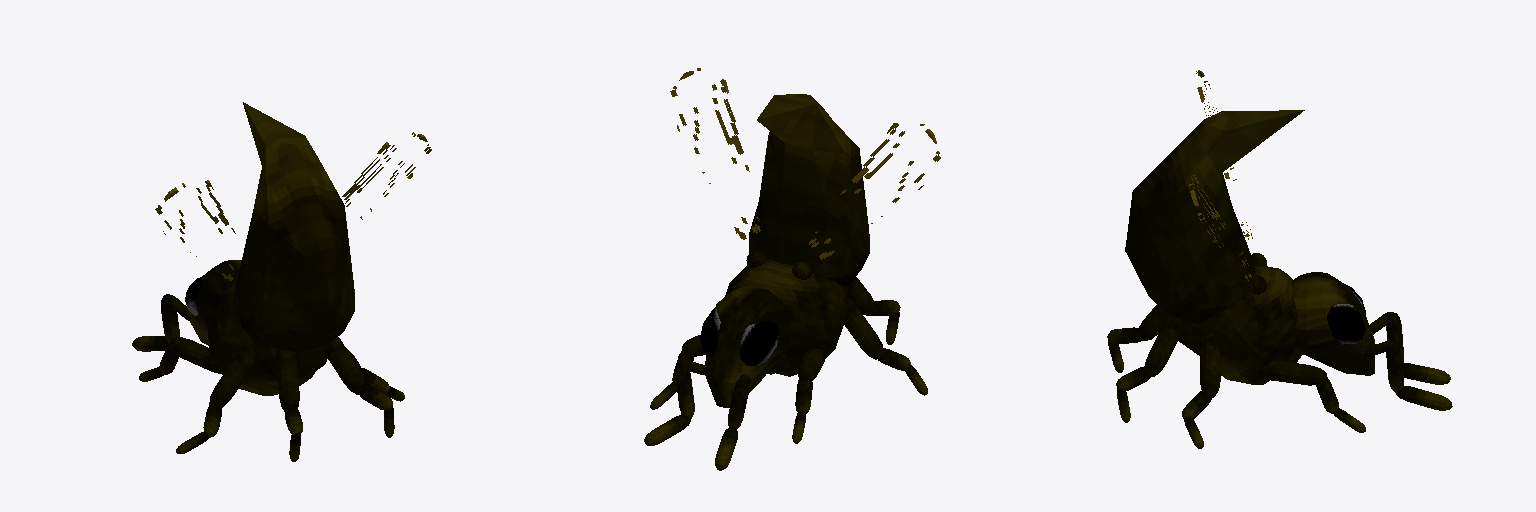
3 renders of one model, left to right at view 1: azimuth 30°, elevation 25°; view 2: azimuth 150°, elevation 25°; view 3: azimuth 270°, elevation 25°, orthographic.
Visible parts, largest first — view 1: sphere, cylinder, Wing; view 2: sphere, cylinder, Wing, WingLimb; view 3: sphere, cylinder, Wing.
Boxes of the visible parts, x1,y1,x2,y2 form: sphere: [185, 102, 354, 395]; cylinder: [132, 294, 404, 461]; Wing: [155, 132, 431, 280]; sphere: [700, 94, 869, 407]; cylinder: [644, 277, 927, 470]; Wing: [670, 68, 940, 259]; WingLimb: [746, 250, 812, 279]; sphere: [1125, 110, 1374, 384]; cylinder: [1107, 305, 1452, 448]; Wing: [1189, 70, 1252, 280].
Size of the model in its own units: 0.9717 by 0.9874 by 1.06.
Materials: 1 (1 with a texture image).